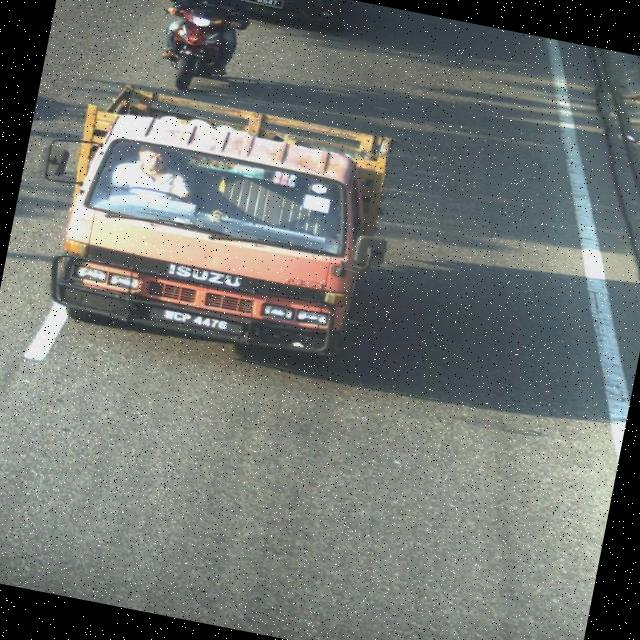License_Plate: (145, 298, 252, 343)
lorry: (9, 54, 422, 383)
